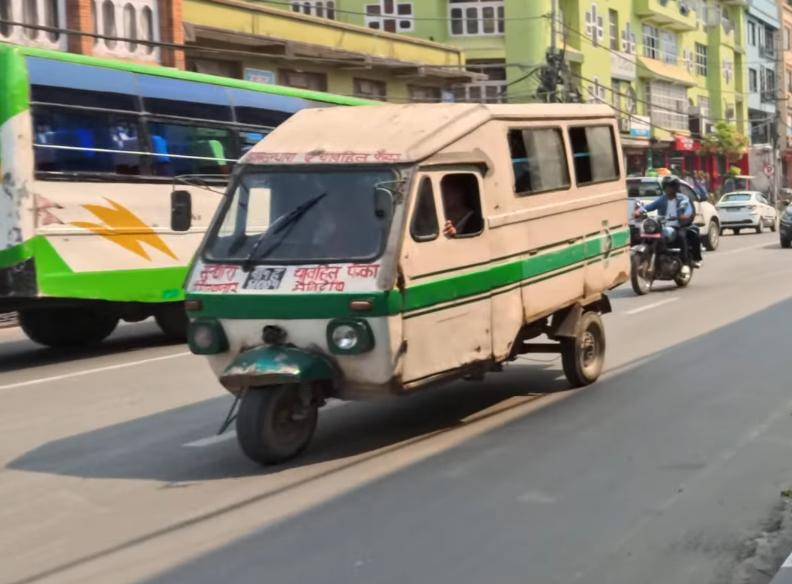bike: (625, 206, 705, 297)
bus: (0, 37, 235, 340)
car: (713, 188, 782, 238)
tempo: (138, 95, 634, 471)
